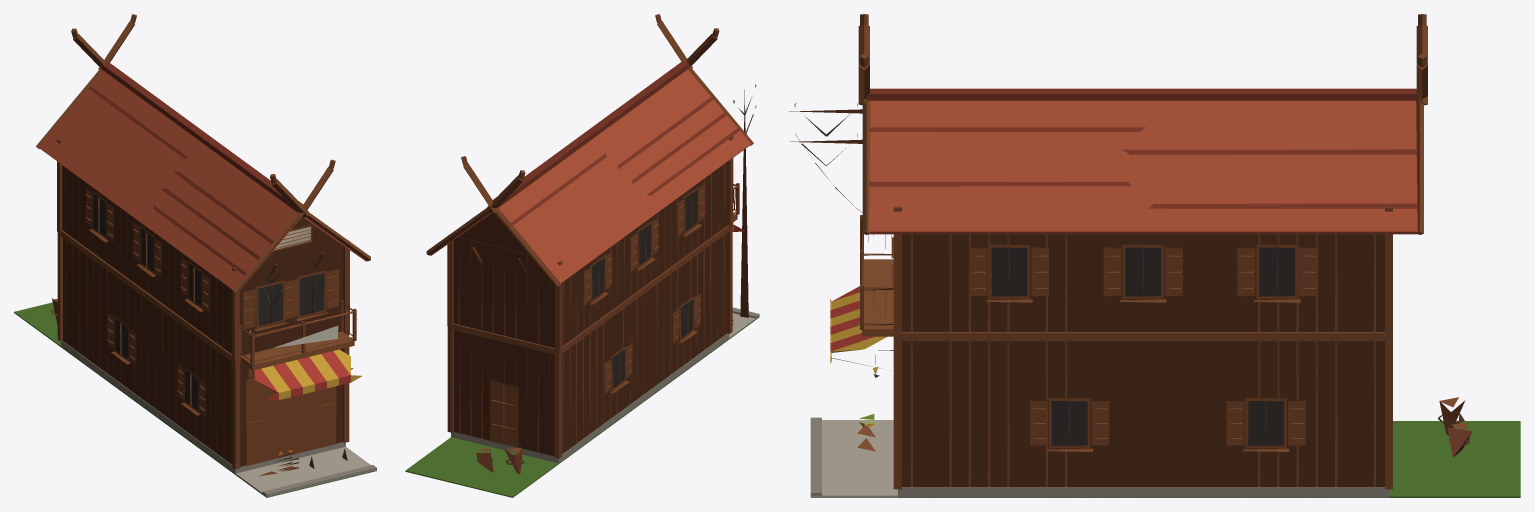
Rendered from bay1_one.glb.
3 renders of one model, left to right at view 1: azimuth 30°, elevation 25°; view 2: azimuth 150°, elevation 25°; view 3: azimuth 270°, elevation 25°, orthographic. The views are drawn at different scales.
Parts seen in each view (by area): view 1: body, windows; view 2: body, windows; view 3: body, windows.
Boxes of the visible parts, x1=… form: body: x1=14, y1=14, x2=376, y2=497; windows: x1=93, y1=193, x2=324, y2=409; body: x1=405, y1=14, x2=759, y2=497; windows: x1=592, y1=189, x2=697, y2=388; body: x1=789, y1=14, x2=1520, y2=497; windows: x1=873, y1=247, x2=1294, y2=445.
Bounding box in the file's own units: 5.02 × 10.66 × 16.4.
